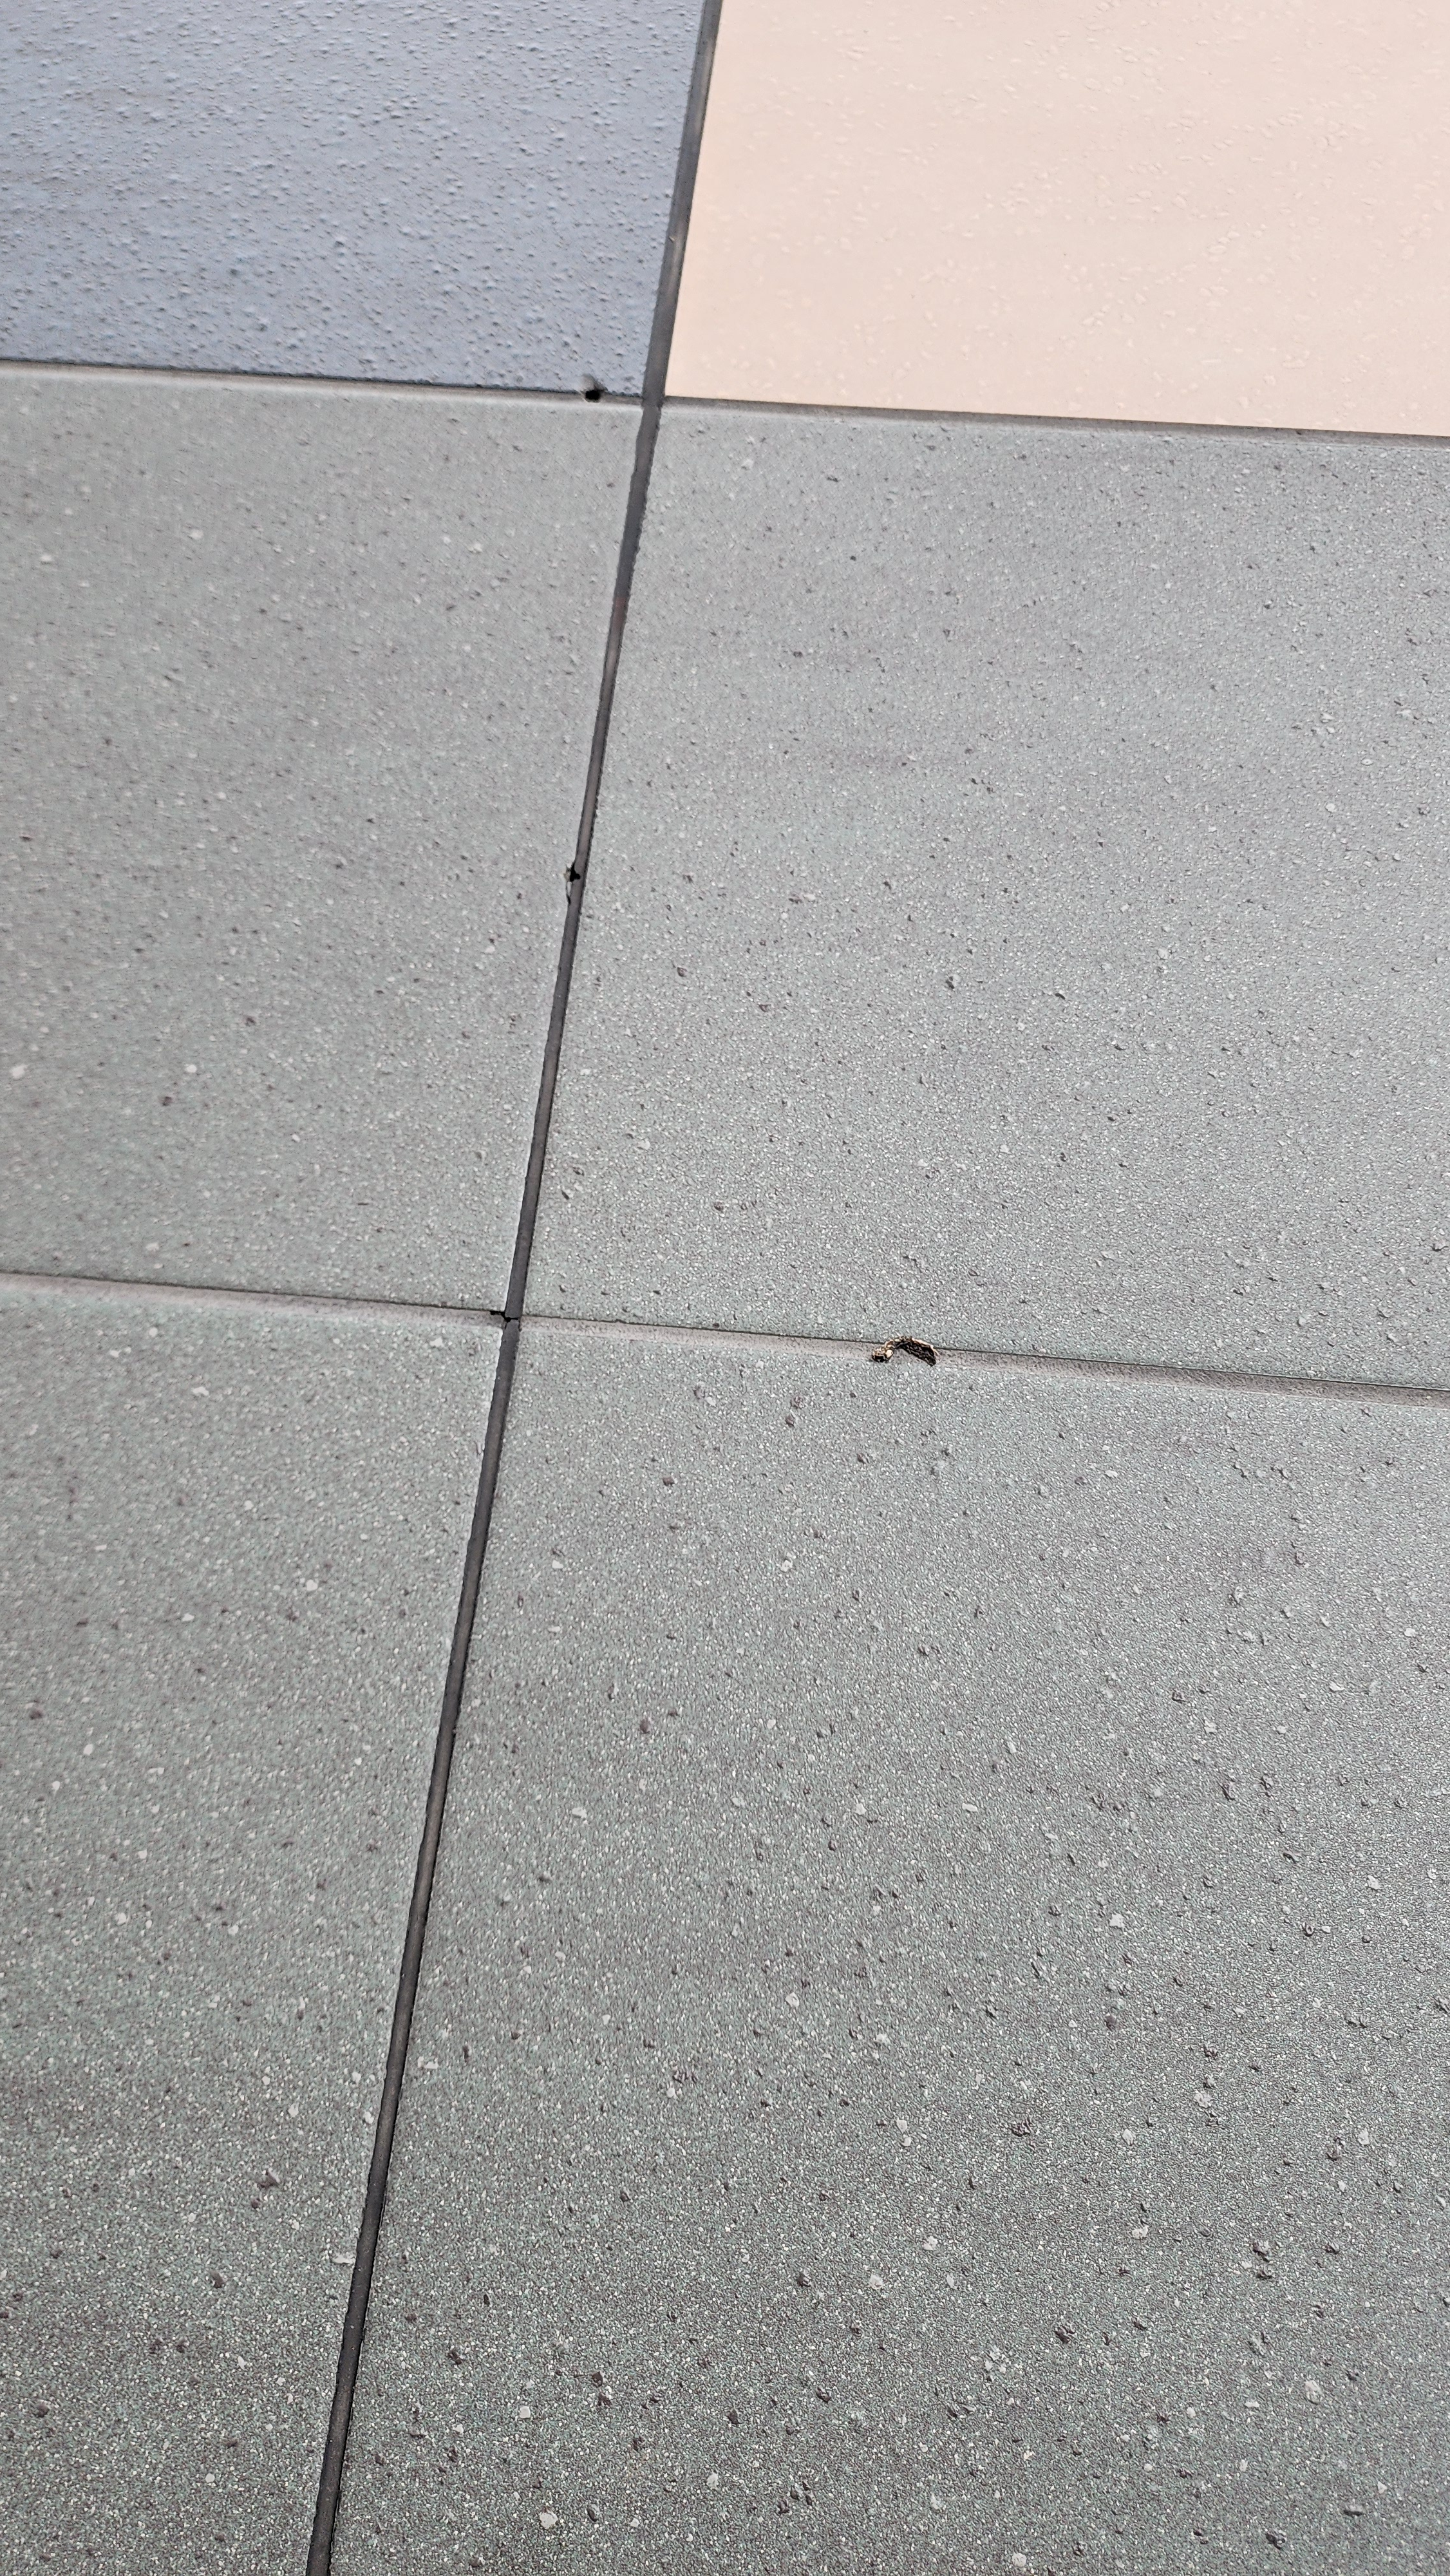Garbage: (852, 1311, 964, 1405)
